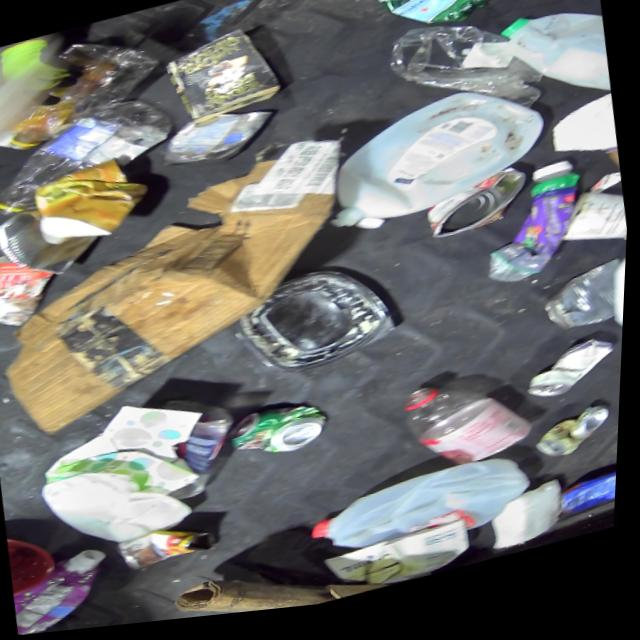can: (0, 194, 107, 294), (156, 100, 282, 180), (225, 400, 332, 473), (524, 345, 625, 416), (540, 270, 629, 348), (532, 408, 624, 479), (121, 520, 220, 576), (548, 476, 622, 538)
milk_jug: (310, 78, 556, 246), (305, 459, 537, 577), (489, 6, 616, 130)
non_white_jug: (13, 542, 127, 637)
plastic_bottle: (0, 99, 177, 220), (396, 367, 537, 490), (473, 169, 598, 301)
